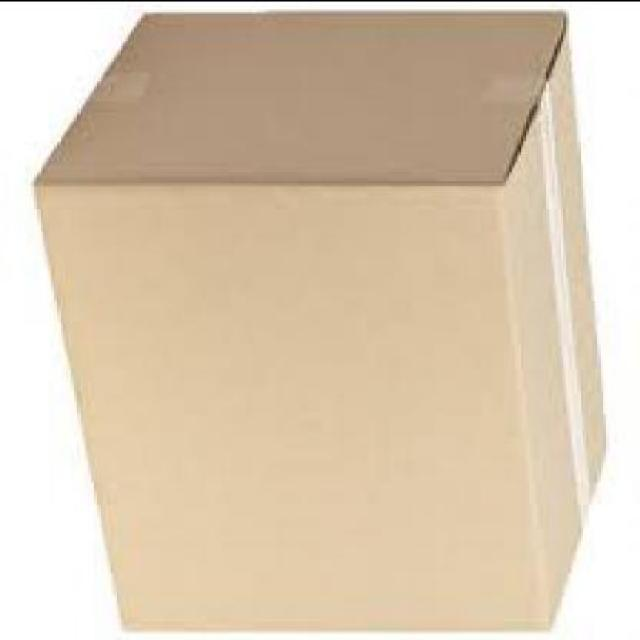CARDBOARD: (34, 11, 612, 634)
